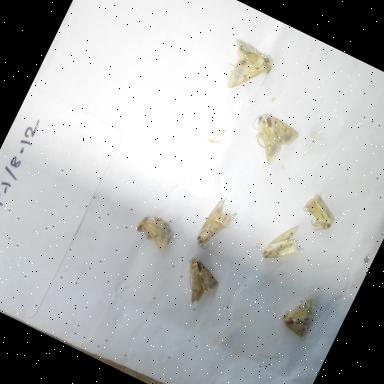abw: (209, 27, 283, 107), (233, 103, 306, 178), (246, 208, 314, 280), (166, 250, 230, 318), (188, 187, 246, 261), (123, 197, 187, 260), (290, 184, 347, 243), (270, 290, 321, 344)
